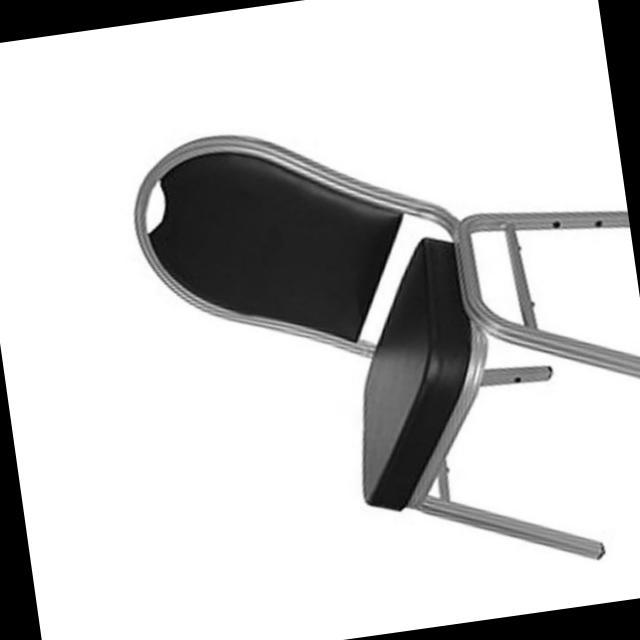chair: (116, 68, 640, 618)
